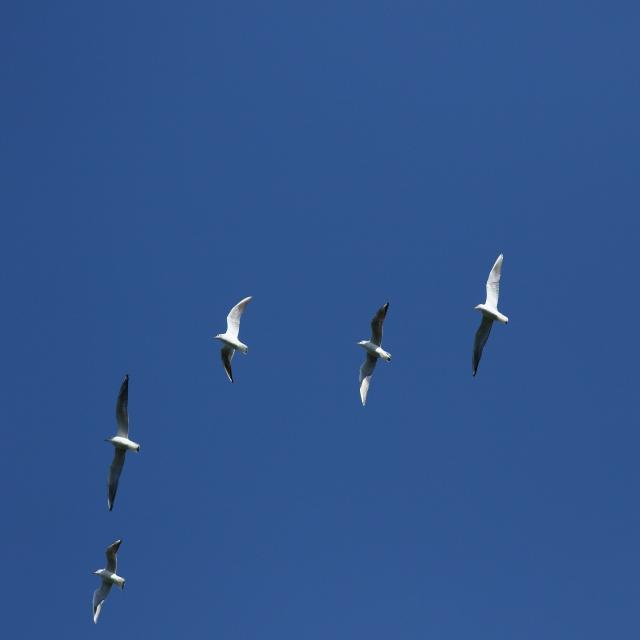bird: (104, 378, 144, 510), (471, 255, 511, 381), (355, 305, 395, 408), (212, 297, 253, 384), (91, 536, 128, 628)
